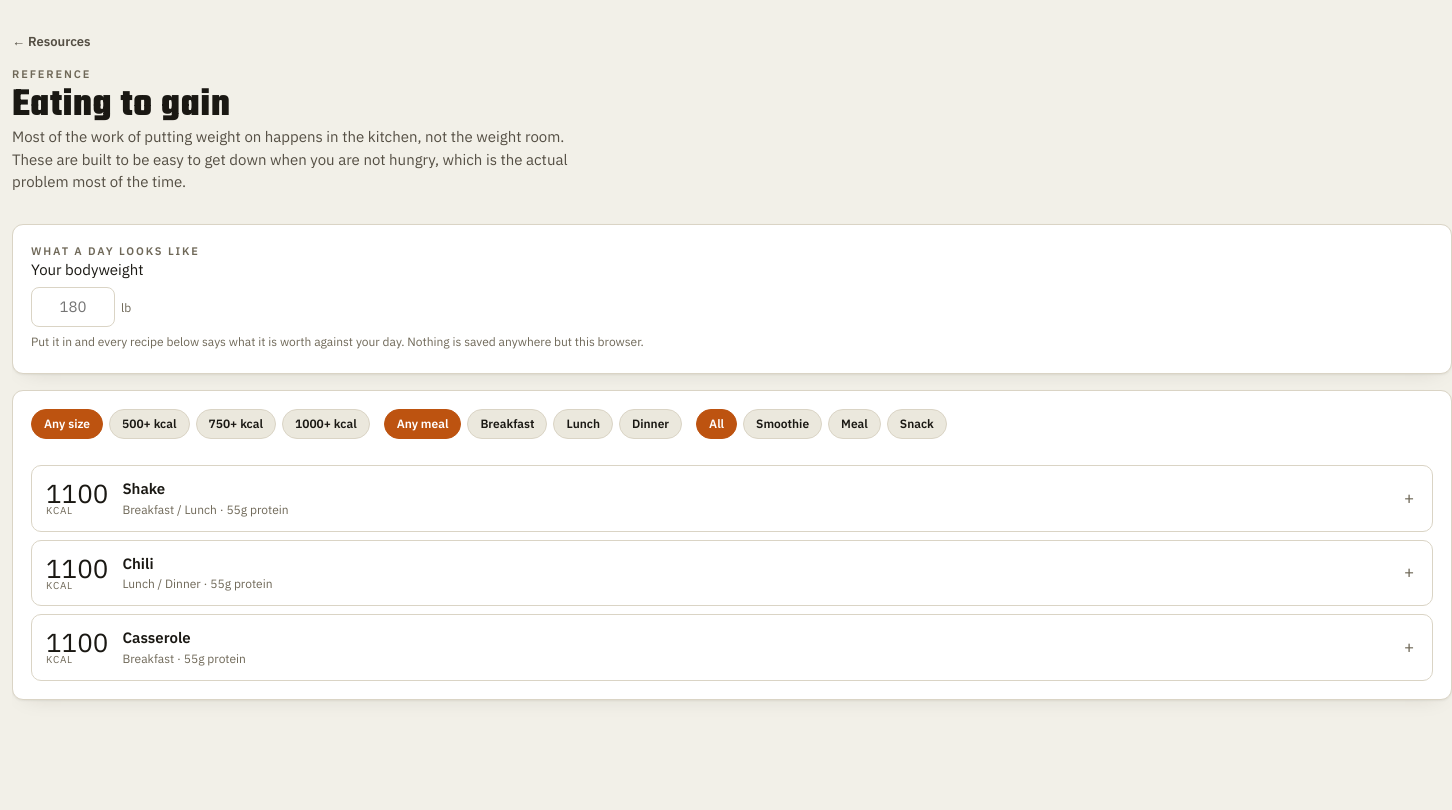
Scenario: filtering by meal keeps everything that fits it
The image size is (1452, 810).
Click the button "Lunch": (583, 424) left=554, top=409, right=613, bottom=439
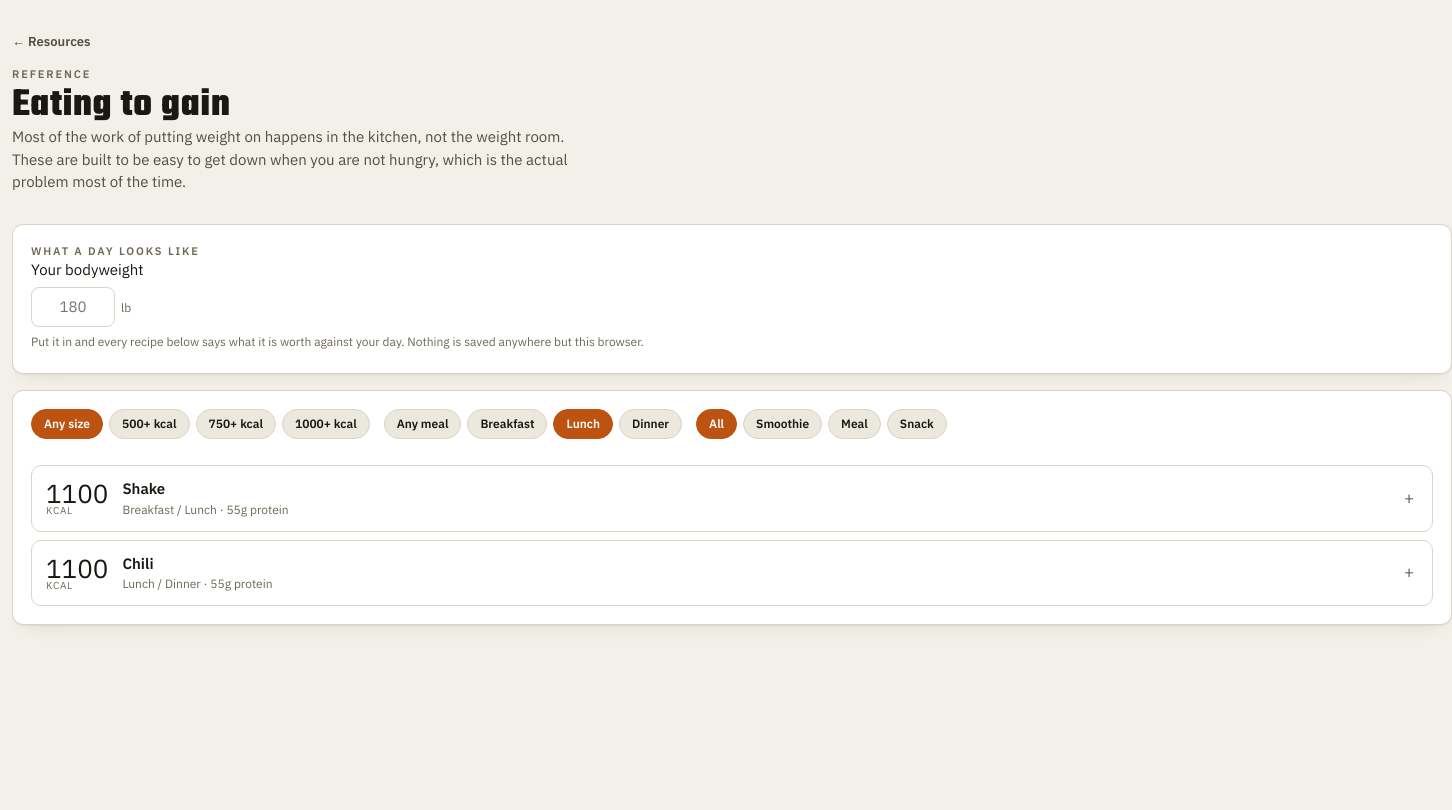
Expected: the text "Shake" is shown, left=122, top=479, right=165, bottom=498
Expected: the button "Casserole" is gone
